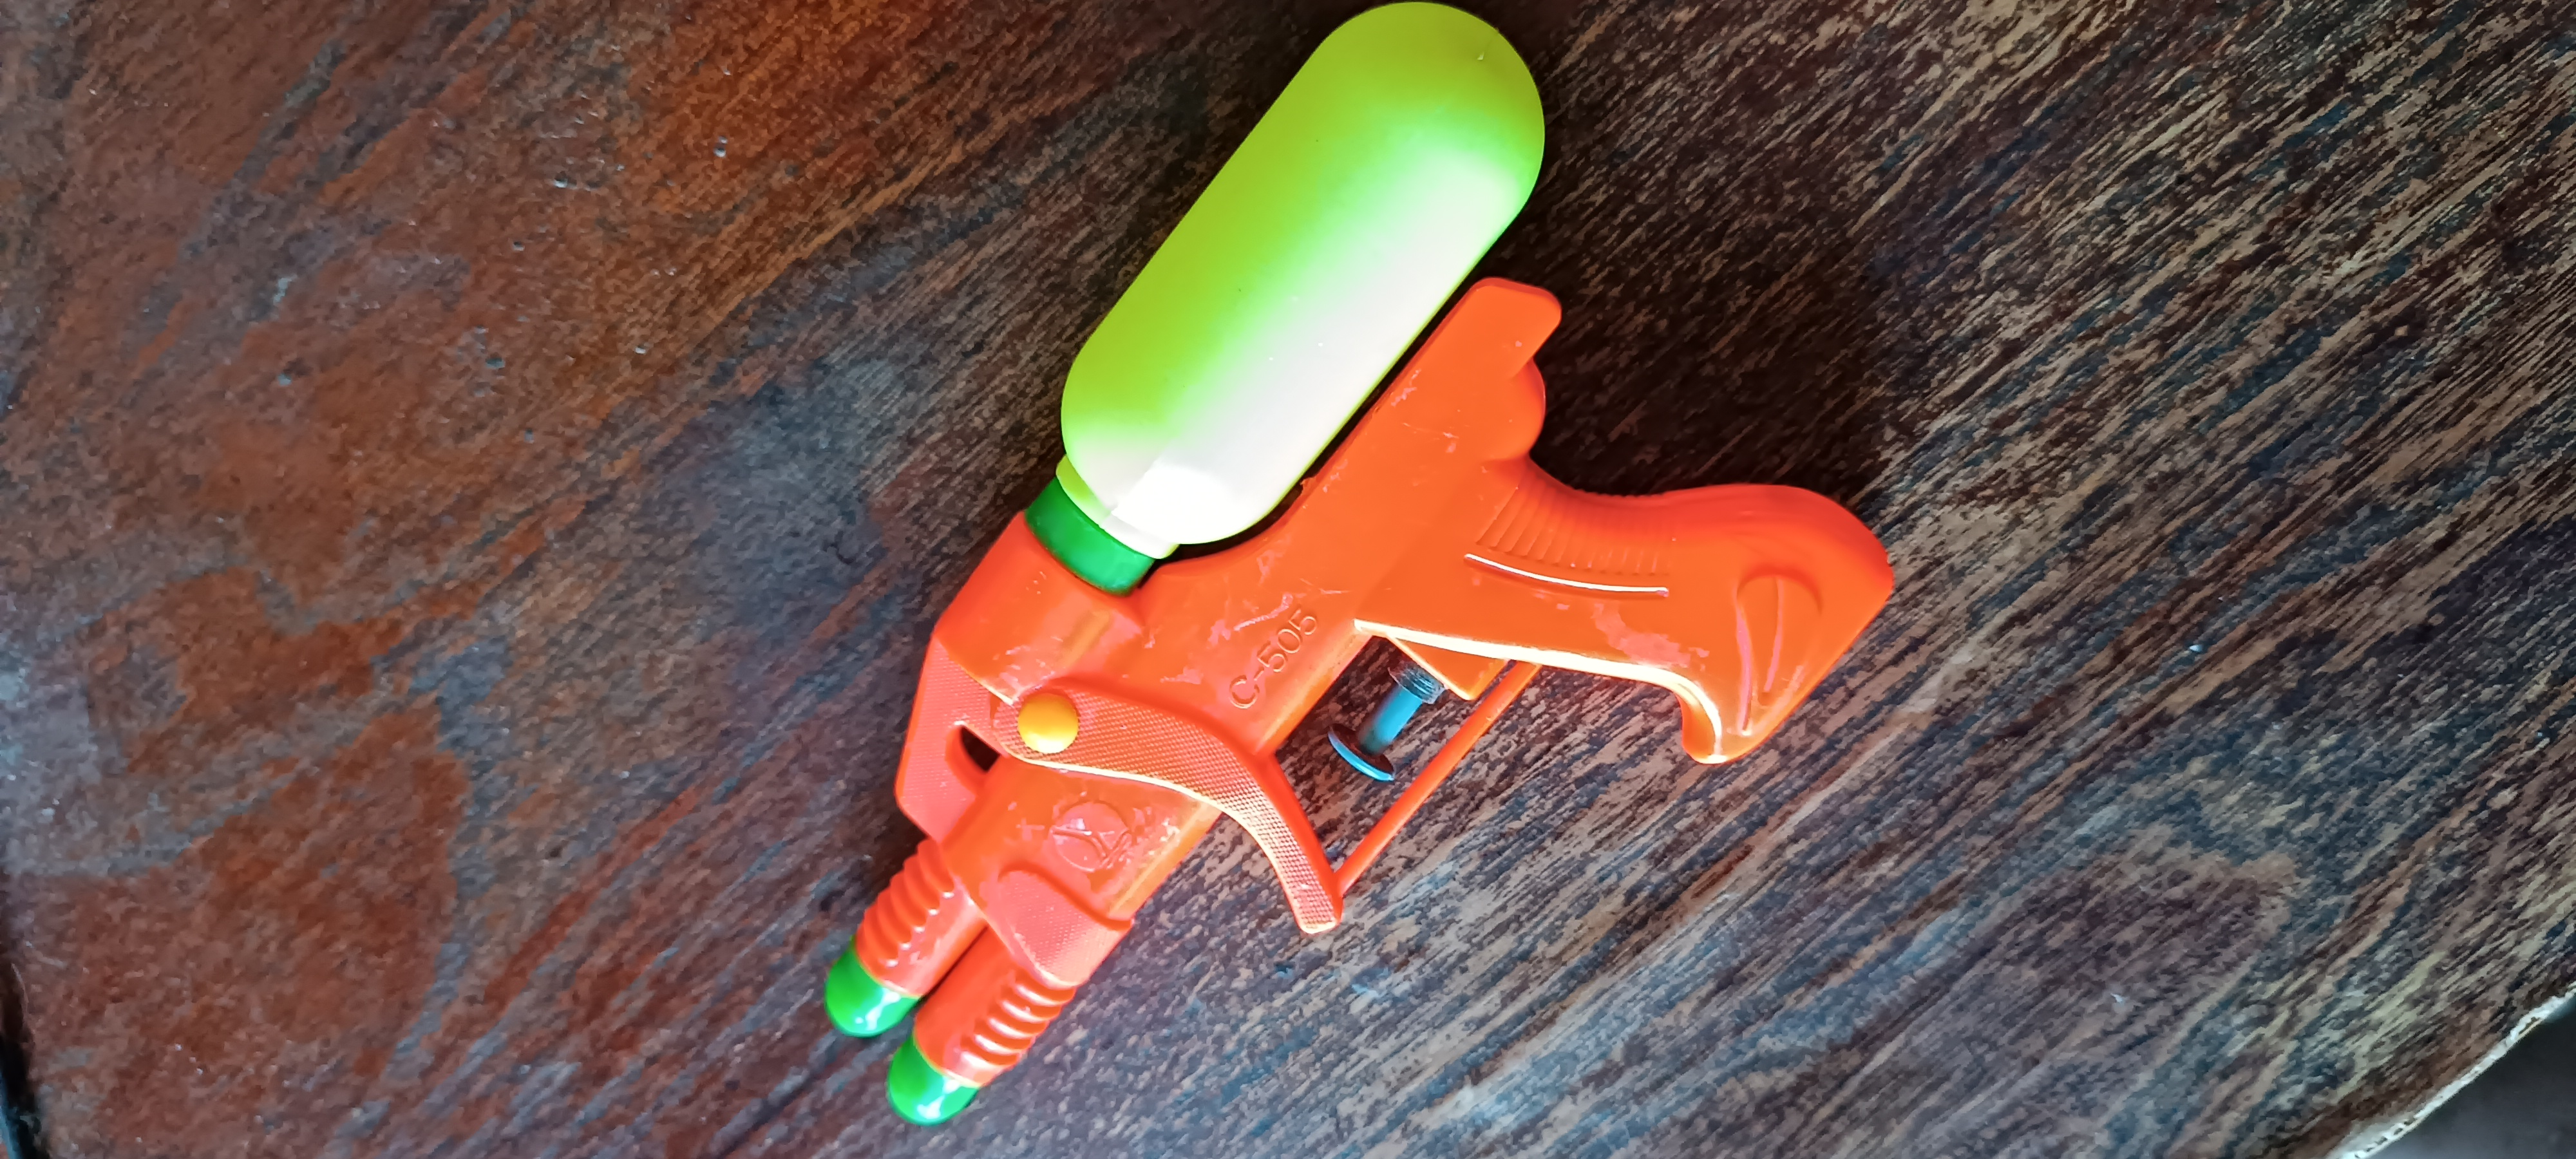Water Gun: (825, 3, 1898, 1131)
